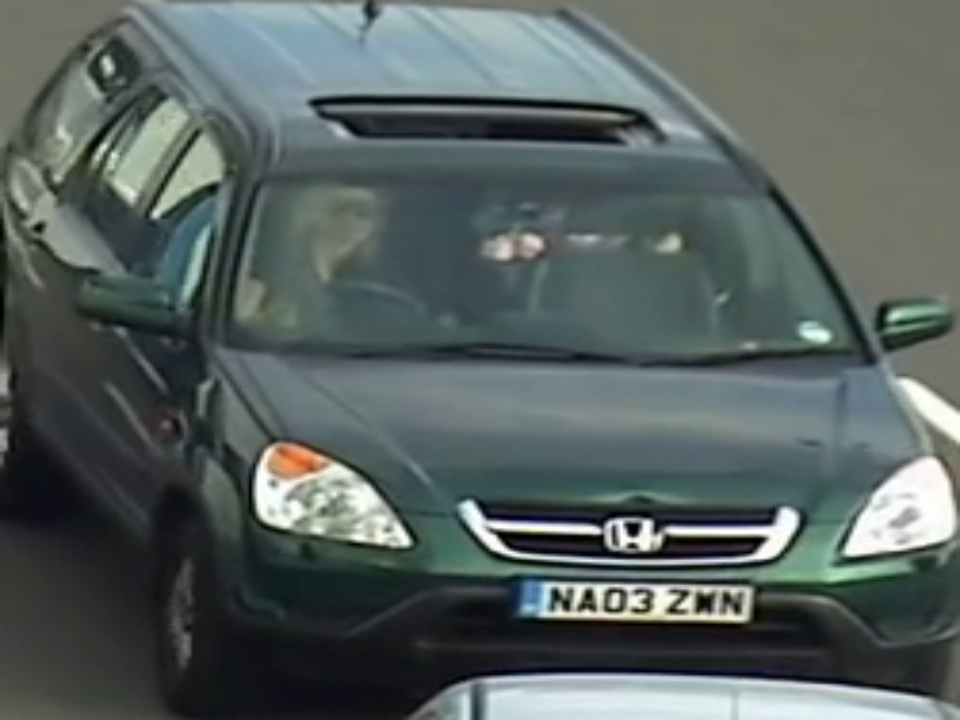ONE: (228, 175, 834, 362)
